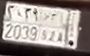0: (14, 9, 23, 39)
2: (5, 4, 15, 39)
3: (23, 7, 32, 40)
9: (31, 7, 39, 42)
A: (56, 13, 66, 44)
S: (41, 14, 50, 42)
Z: (49, 12, 57, 42)
